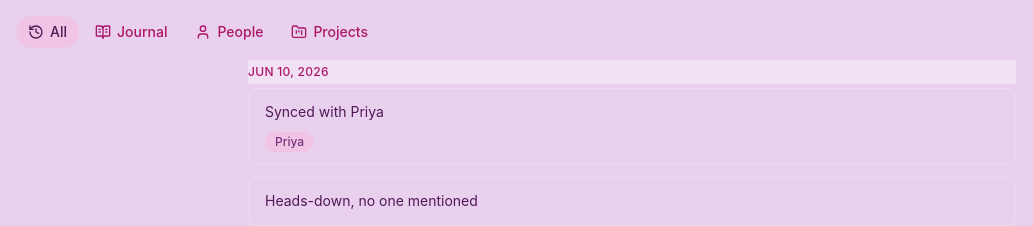
Test case: TimelineView › the People tab hides a JE with no person reference
Expected: the text "Synced with Priya" is shown, x1=265 y1=103 x2=384 y2=120
Expected: the text "Heads-down, no one mentioned" is shown, x1=265 y1=192 x2=478 y2=209
Click the button "People" at (229, 32), box x1=183 y1=16 x2=275 y2=48
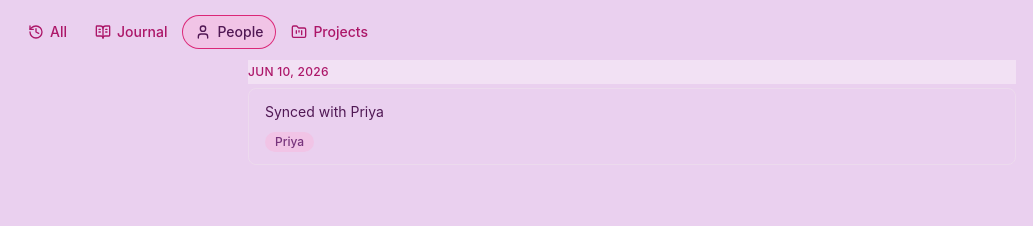
Expected: the text "Synced with Priya" is shown, x1=265 y1=103 x2=384 y2=120
Now the text "Heads-down, no one mentioned" is gone
